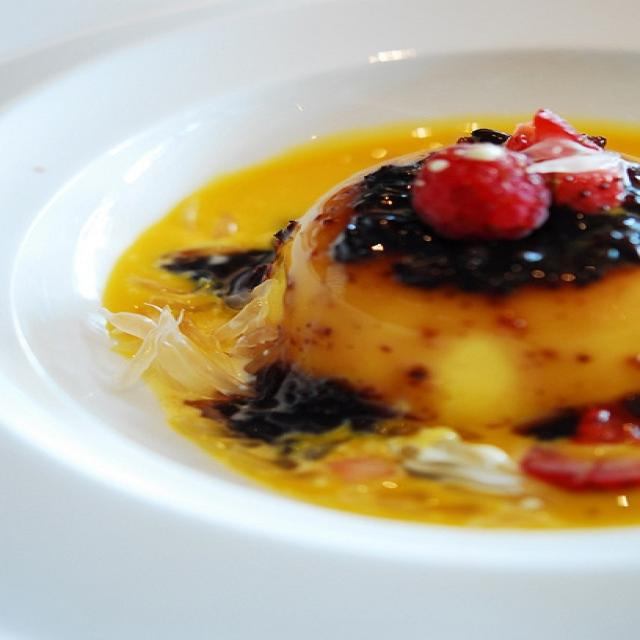蛋糕甜品: (3, 16, 637, 599)
